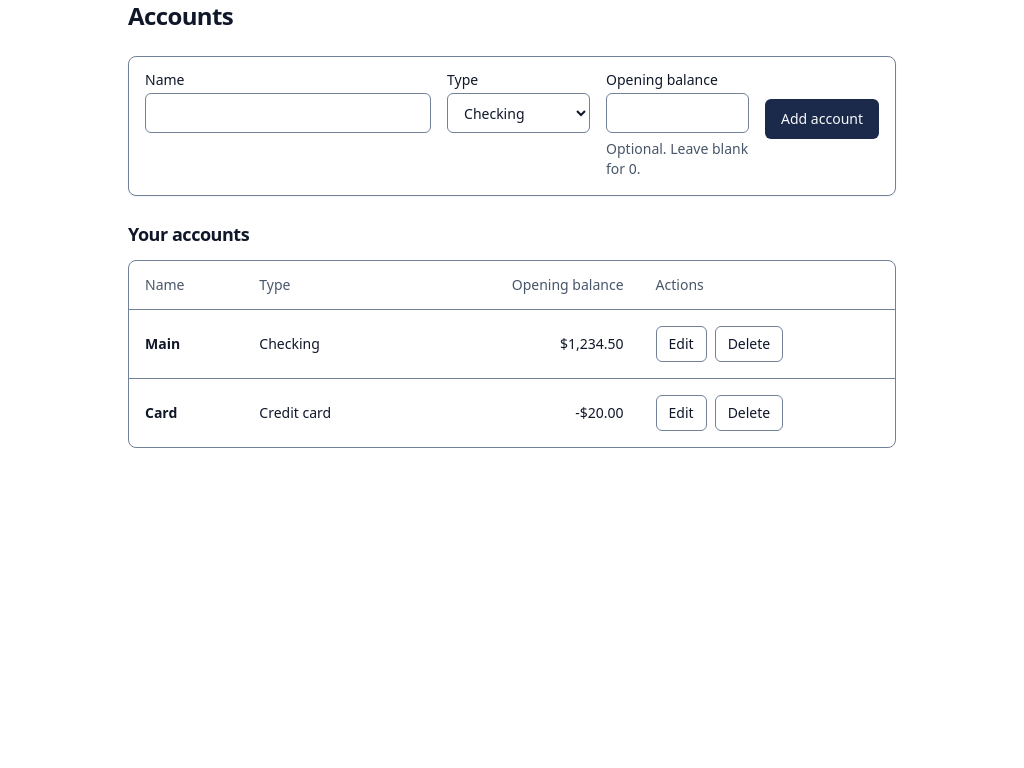
Scenario: AccountsPage edit and delete › T-027 another failure on DELETE gives a generic message and keeps the row
The width and height of the screenshot is (1024, 768).
Expected: the table is shown, [129,261,895,446]
Step 1. Click the button with aria-label "Delete Main" → (749, 344), box [715,326,783,362]
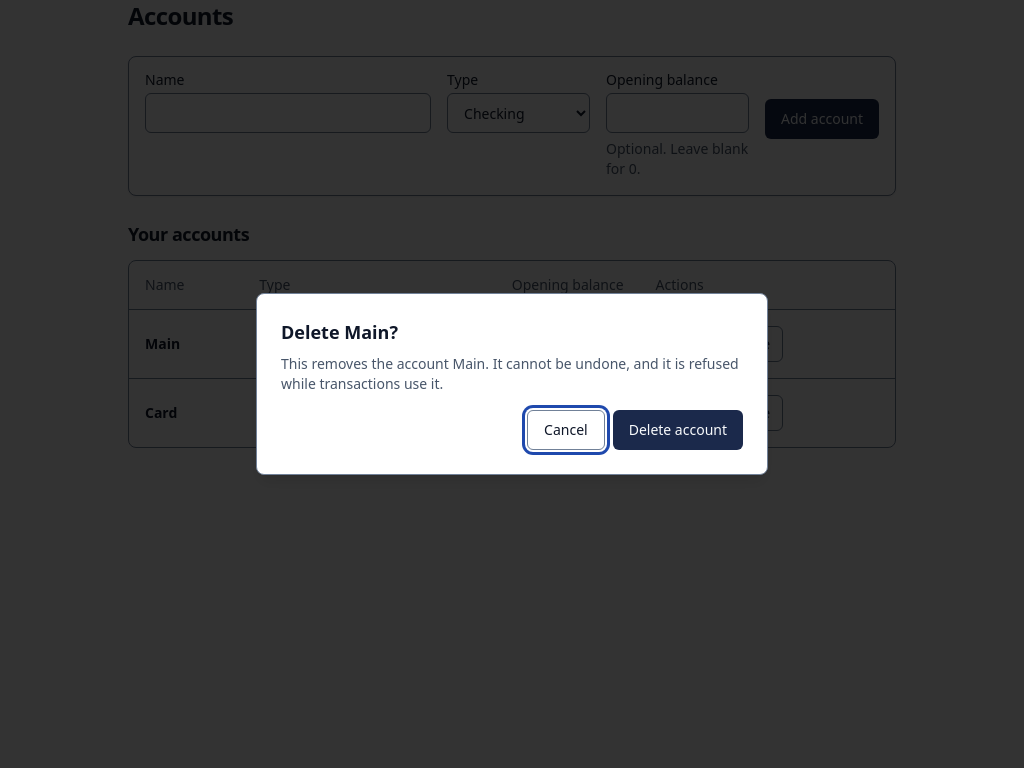
Step 2. Click the button "Delete account" → (678, 430), box [613,410,743,450]
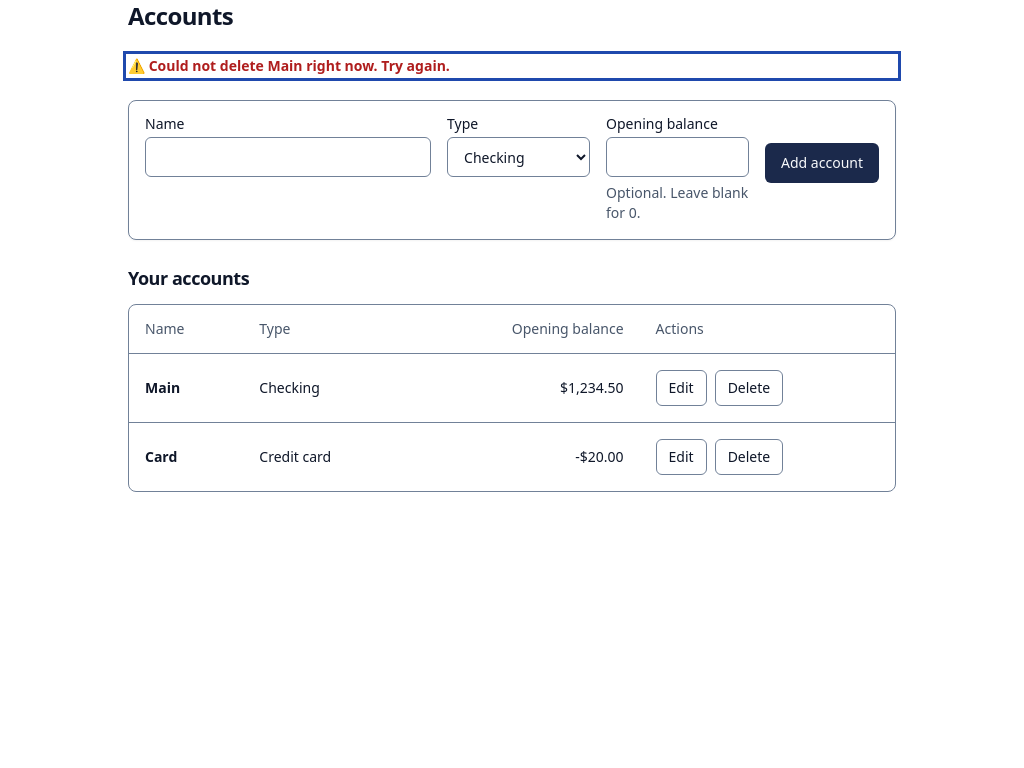
Expected: the column heading "Main" is shown, [129,354,243,422]
Expected: the message shows "Could not delete Main right now. Try again.", [149,56,450,75]
